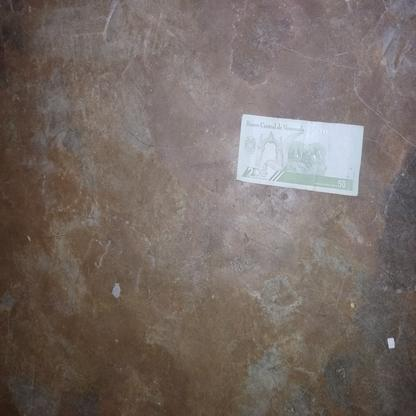fifty-back-vef: (235, 114, 364, 197)
